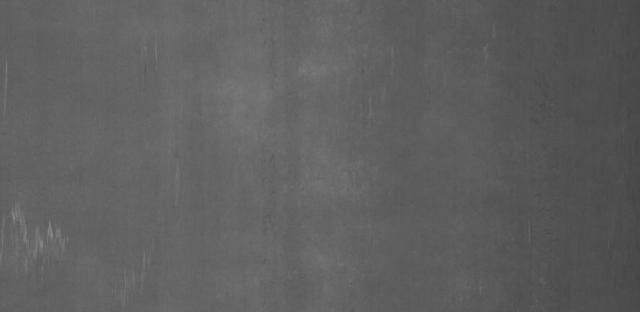silk_spot: (9, 214, 65, 280)
